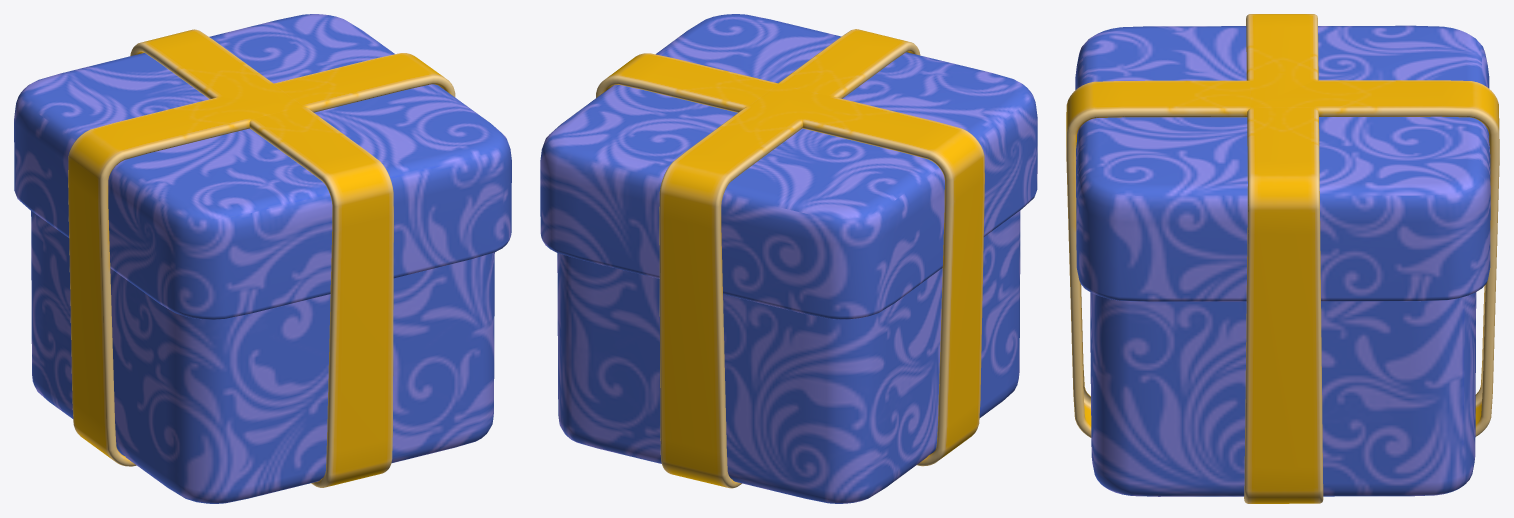
File: LiHe_02.fbx
3 views of the same model, side by side, from view 1: azimuth 30°, elevation 25°; view 2: azimuth 150°, elevation 25°; view 3: azimuth 270°, elevation 25° (orthographic). The views are drawn at different scales.
Parts seen in each view (by area): view 1: LiWu; view 2: LiWu; view 3: LiWu.
Part boxes in pixels (x1,y1,x2,y2): LiWu: [14, 14, 511, 503]; LiWu: [540, 14, 1037, 503]; LiWu: [1066, 14, 1499, 503].
Bounding box in the file's own units: 127 × 107 × 127.
